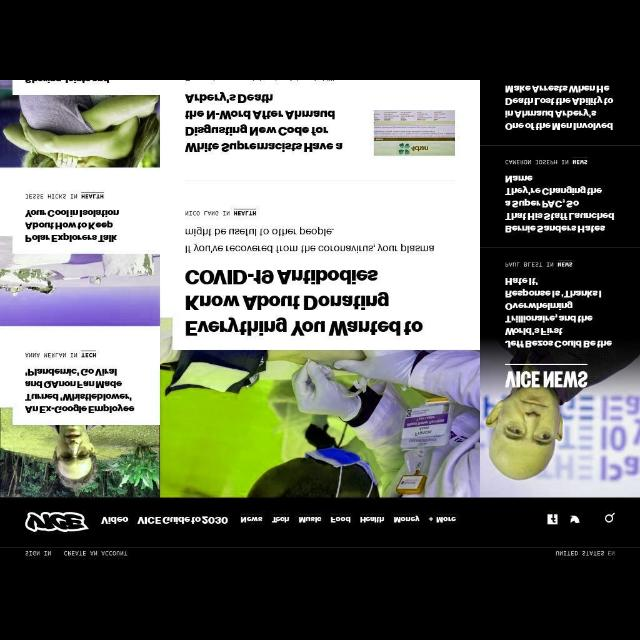icon: (604, 510, 616, 522)
image: (162, 315, 480, 497), (483, 342, 639, 496), (1, 233, 160, 325), (1, 407, 161, 498), (2, 236, 162, 324), (2, 80, 158, 168), (373, 110, 455, 156), (24, 508, 88, 532), (546, 514, 558, 524), (571, 515, 581, 523)
spinner: (429, 515, 457, 525)
text: (186, 268, 426, 338), (184, 90, 344, 154), (503, 274, 612, 350), (186, 226, 437, 254), (504, 172, 614, 234), (25, 366, 137, 414), (506, 82, 614, 130), (25, 210, 119, 244), (506, 371, 588, 387), (136, 514, 228, 526), (24, 350, 98, 360), (185, 208, 258, 218), (504, 259, 574, 269), (26, 80, 110, 88), (504, 158, 588, 166), (25, 192, 107, 200), (64, 550, 128, 558), (556, 549, 616, 557), (100, 514, 130, 526), (360, 515, 386, 525), (299, 514, 323, 524), (24, 549, 52, 557), (270, 514, 292, 524), (394, 515, 421, 523), (331, 514, 352, 524), (242, 514, 262, 524), (435, 516, 457, 522)
